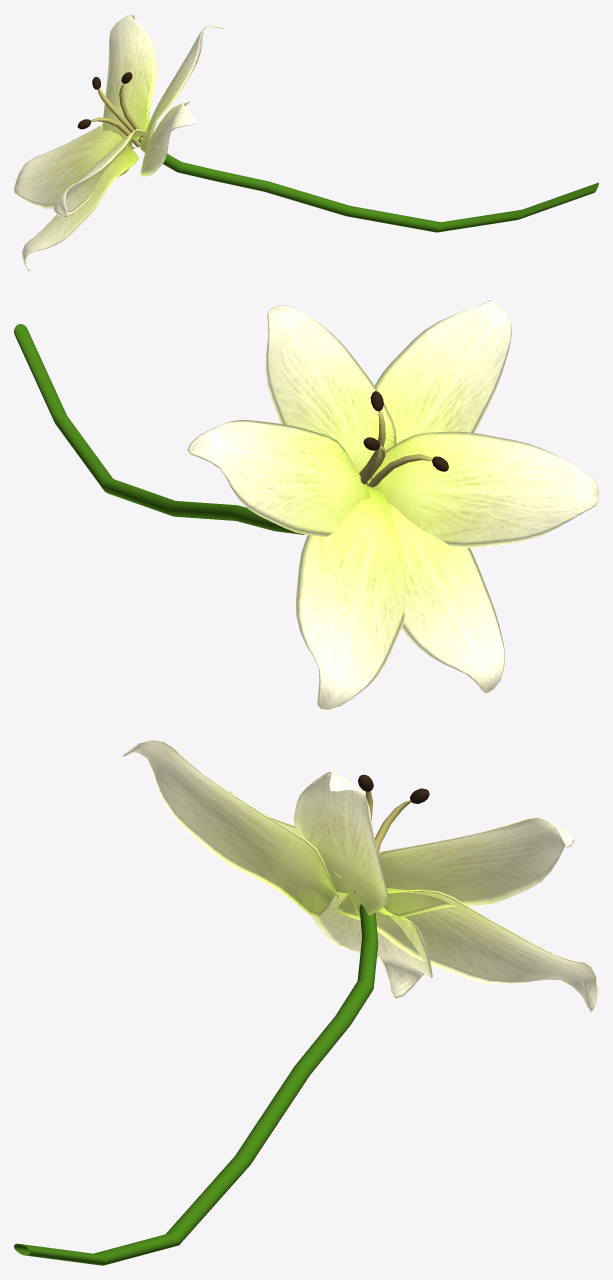
Rendered from flor.glb.
3 renders of one model, top to bottom at view 1: azimuth 30°, elevation 25°; view 2: azimuth 150°, elevation 25°; view 3: azimuth 270°, elevation 25°, orthographic. The views are drawn at different scales.
Visible parts, largest first — view 1: Cylinder.003_0; view 2: Cylinder.003_0; view 3: Cylinder.003_0.
Boxes of the visible parts, x1,y1,x2,y2 form: Cylinder.003_0: (14, 14, 598, 271); Cylinder.003_0: (14, 300, 598, 710); Cylinder.003_0: (14, 739, 598, 1265).
Bounding box in the file's own units: 0.5129 × 0.227 × 0.3445.
4 materials, 1 textured.
